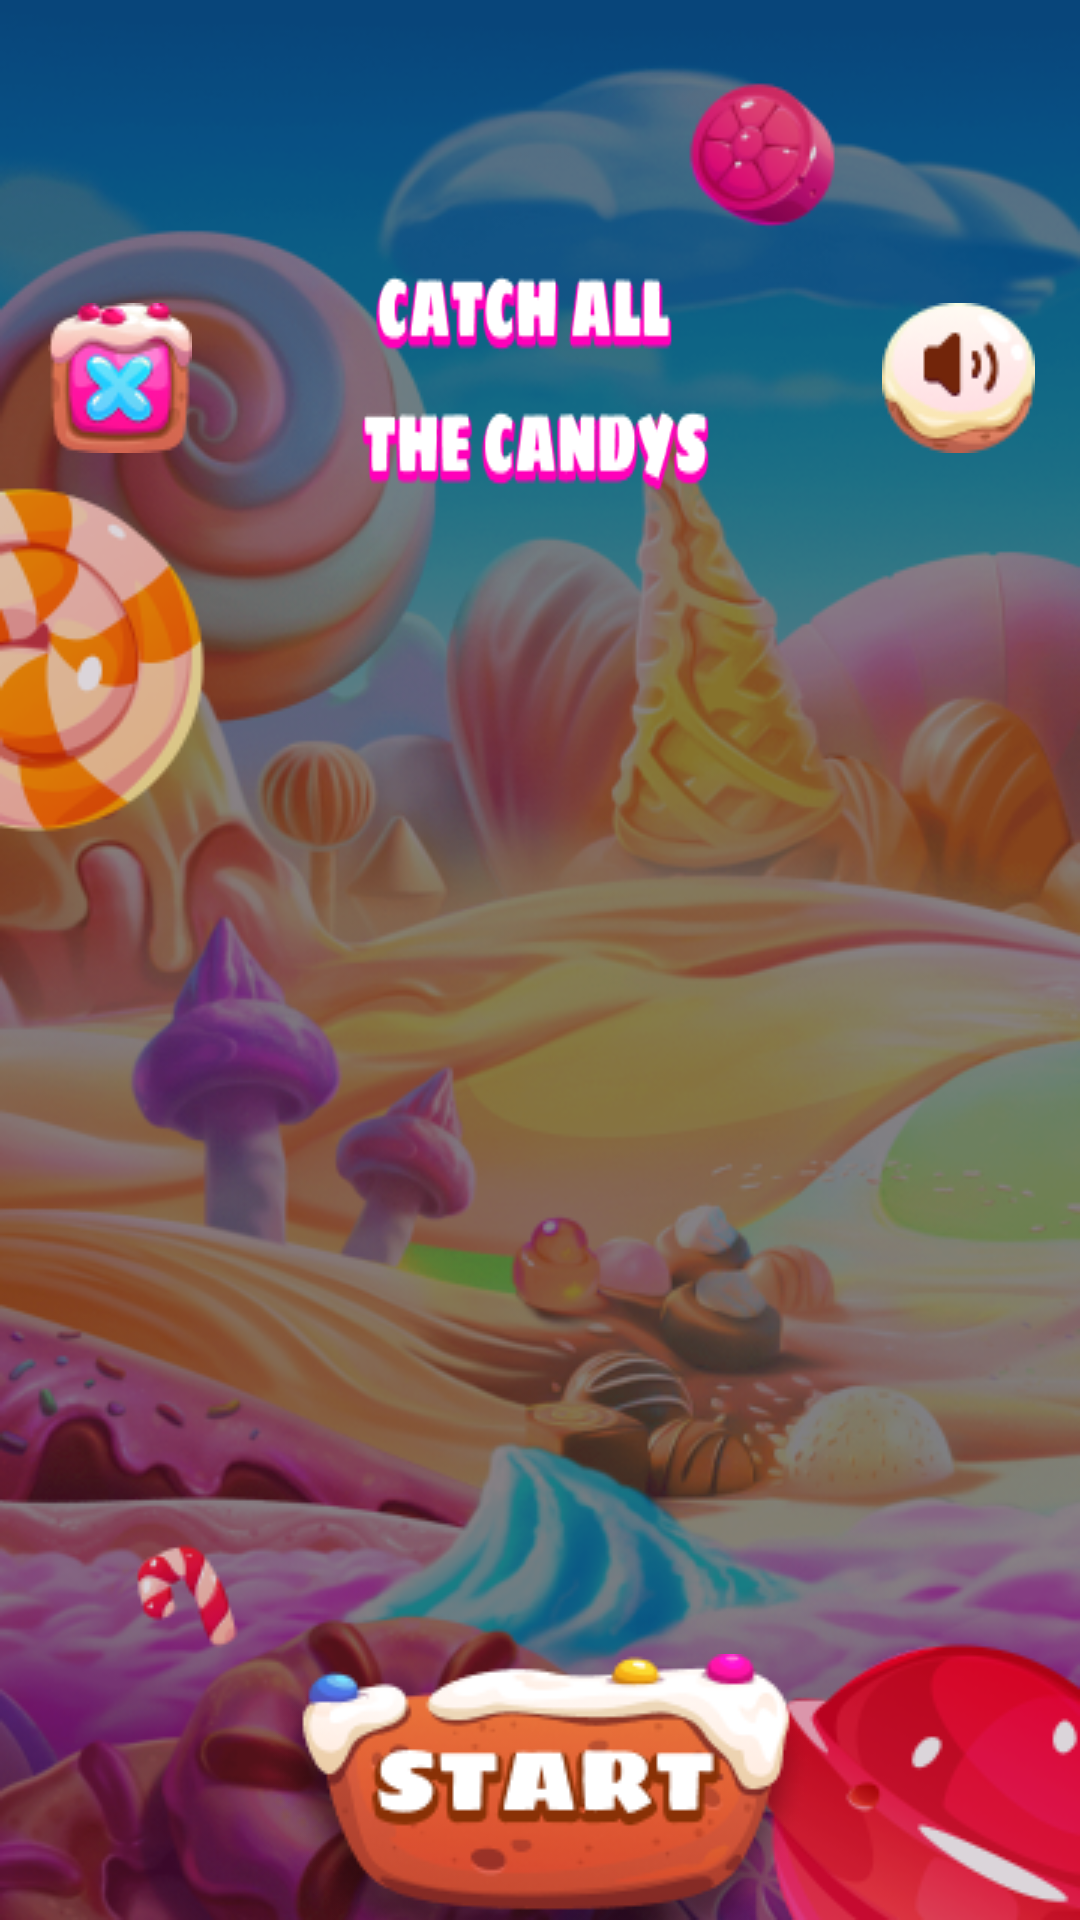

Icon click points for this 1080x1920 phone screenshot, format (x,y):
exit: (120,378)
sound on: (958,378)
